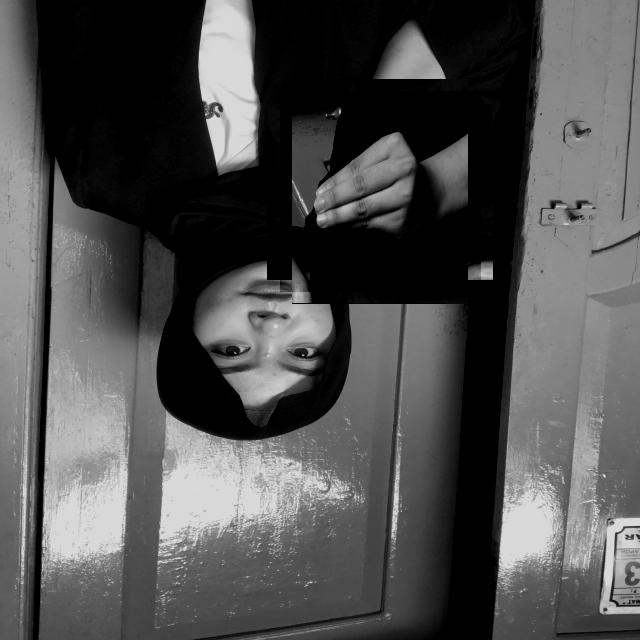kapan: (280, 91, 481, 292)
